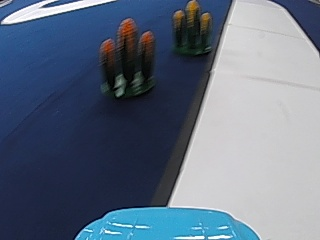corn: (99, 16, 157, 104), (171, 1, 214, 56)
